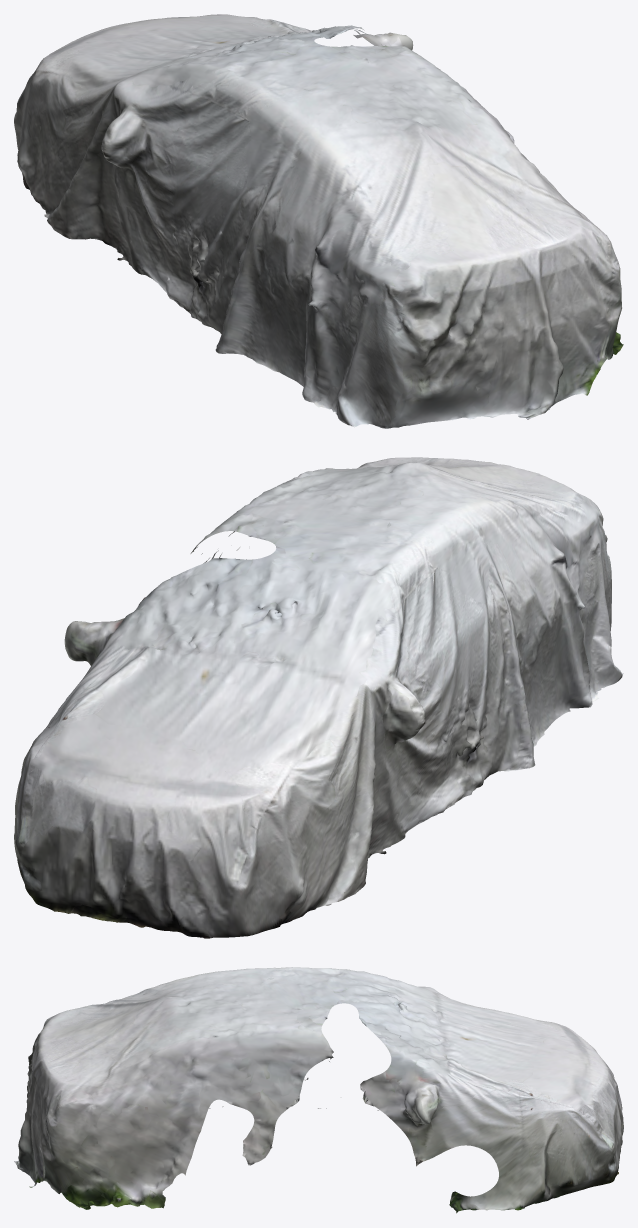
The model's file is sedan_car_scan.glb.
3 views of the same model, one above another, from view 1: azimuth 30°, elevation 25°; view 2: azimuth 150°, elevation 25°; view 3: azimuth 270°, elevation 25° (orthographic). The views are drawn at different scales.
Parts seen in each view (by area): view 1: Object_4; view 2: Object_4; view 3: Object_4.
Boxes of the visible parts, <box> form: Object_4: <box>14,14,623,428</box>; Object_4: <box>14,457,623,938</box>; Object_4: <box>14,967,623,1213</box>.
Bounding box in the file's own units: 2.07 × 1.34 × 4.49.
1 material, 1 textured.
